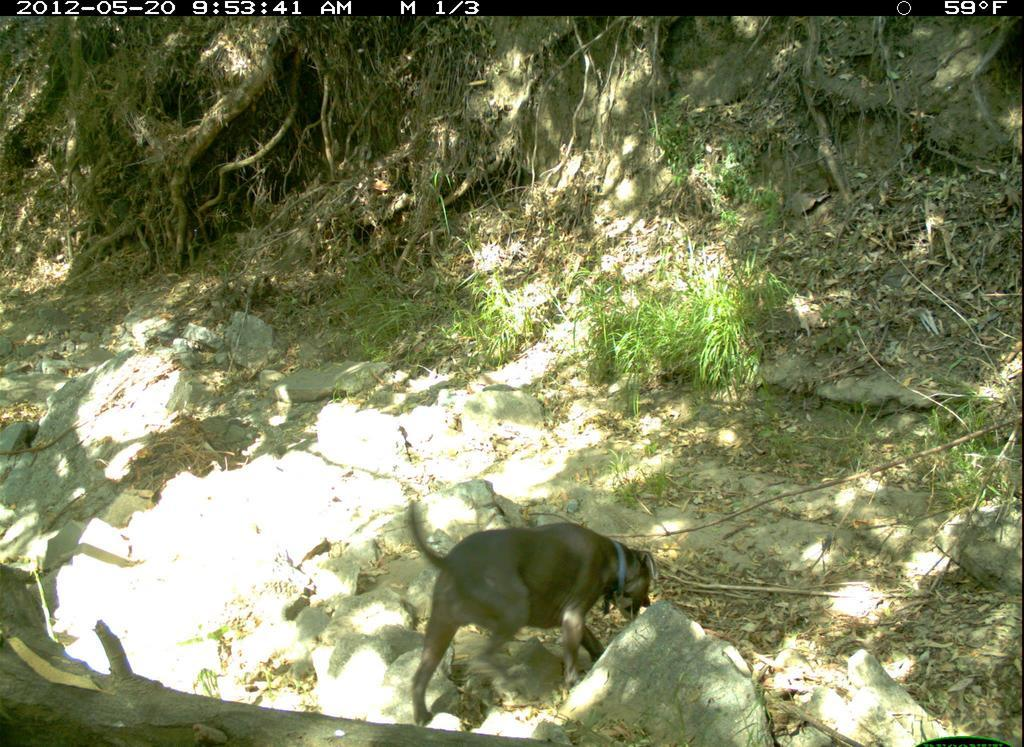dog: (381, 483, 670, 733)
